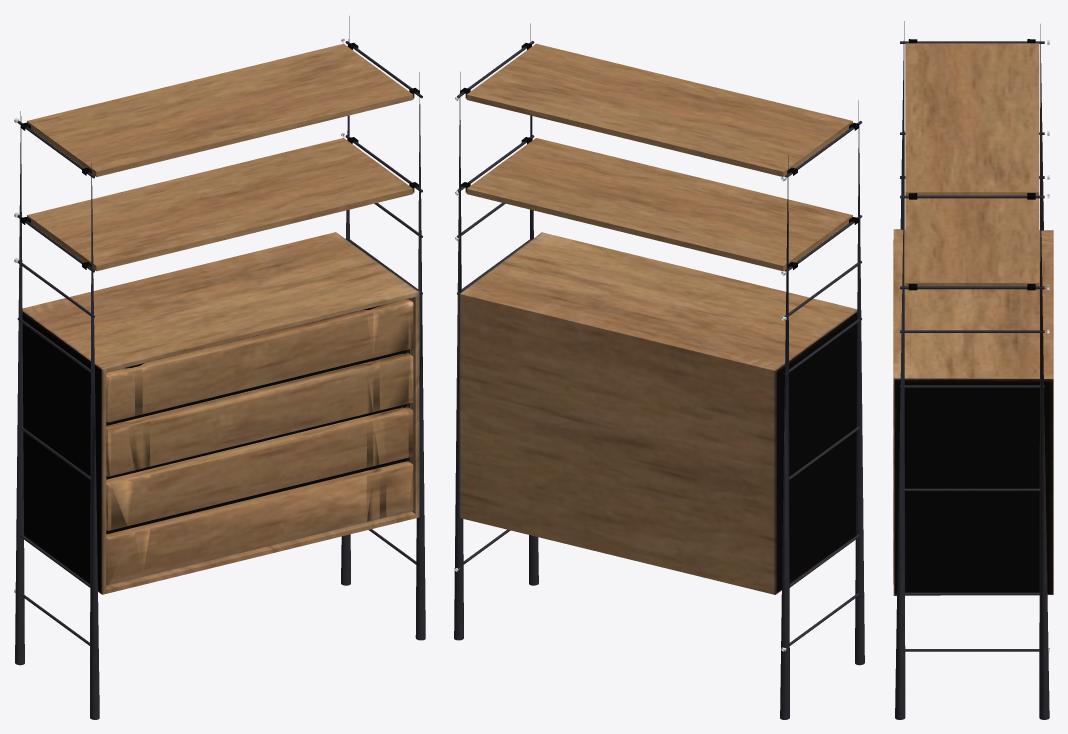
Rendered from drawer_cabinet.glb.
The picture shows the model from 3 angles, left to right: view 1: azimuth 30°, elevation 25°; view 2: azimuth 150°, elevation 25°; view 3: azimuth 270°, elevation 25°; orthographic projection. The views are drawn at different scales.
Parts seen in each view (by area): view 1: drawer_cabinet, drawer_cabinet_drawer_03, drawer_cabinet_drawer_02, drawer_cabinet_drawer_04, drawer_cabinet_drawer_01; view 2: drawer_cabinet; view 3: drawer_cabinet.
Boxes of the visible parts, x1=… form: drawer_cabinet: x1=14, y1=16, x2=425, y2=719; drawer_cabinet_drawer_03: x1=106, y1=407, x2=413, y2=530; drawer_cabinet_drawer_02: x1=106, y1=353, x2=413, y2=476; drawer_cabinet_drawer_04: x1=106, y1=461, x2=413, y2=584; drawer_cabinet_drawer_01: x1=106, y1=299, x2=413, y2=422; drawer_cabinet: x1=454, y1=23, x2=864, y2=719; drawer_cabinet: x1=893, y1=21, x2=1053, y2=719.
Bounding box in the file's own units: 1.13 × 1.85 × 0.4881.
Materials: 1 (1 with a texture image).
